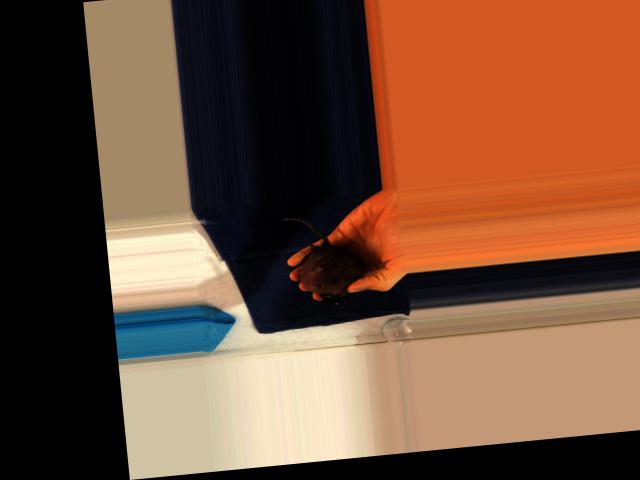beet: (279, 210, 367, 309)
